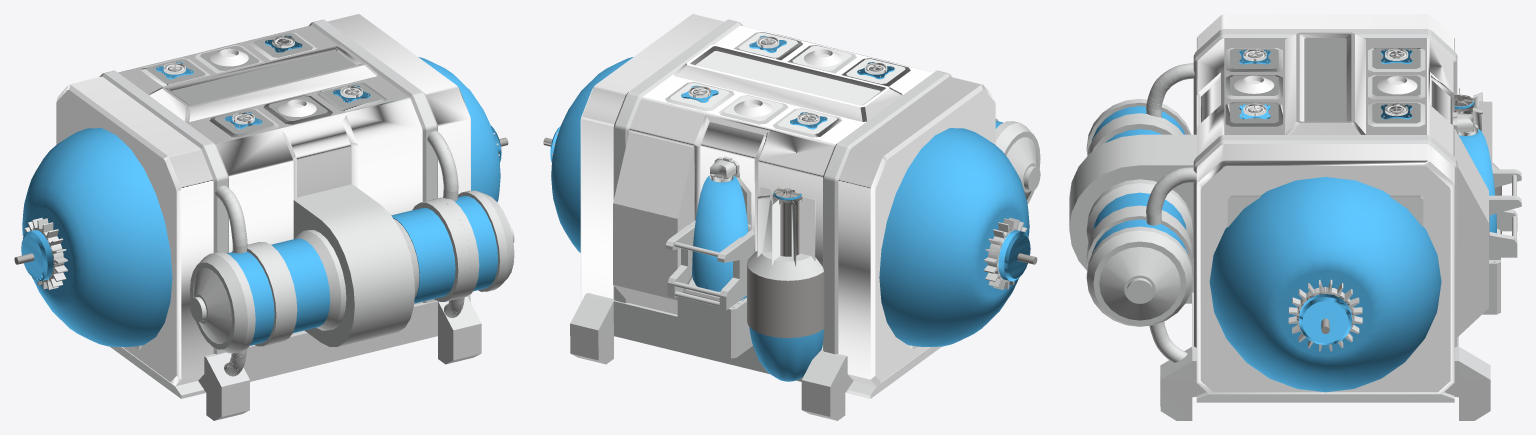
The model's file is djssb.fbx.
3 views of the same model, side by side, from view 1: azimuth 30°, elevation 25°; view 2: azimuth 150°, elevation 25°; view 3: azimuth 270°, elevation 25° (orthographic). The views are drawn at different scales.
Parts seen in each view (by area): view 1: OXYGEN-2_mesh.001; view 2: OXYGEN-2_mesh.001; view 3: OXYGEN-2_mesh.001.
Boxes of the visible parts, x1=… form: OXYGEN-2_mesh.001: x1=14, y1=14, x2=514, y2=420; OXYGEN-2_mesh.001: x1=543, y1=14, x2=1040, y2=420; OXYGEN-2_mesh.001: x1=1069, y1=14, x2=1521, y2=420.
Size of the model in its own units: 114 by 58.35 by 87.67.
